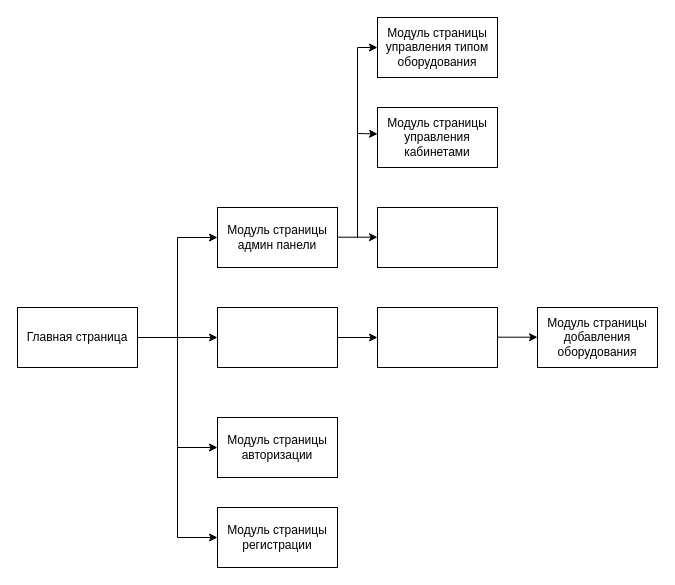
Some shapes in this 675 by 585 pixel diagram are drawn without their labels. Each missing label, with the centre of its shape:
"Модуль страницы кабинета" goes at point (277, 337).
"Модуль страницы оборудования" goes at point (437, 337).
"Модуль страницы управления оборудованием" goes at point (437, 237).
